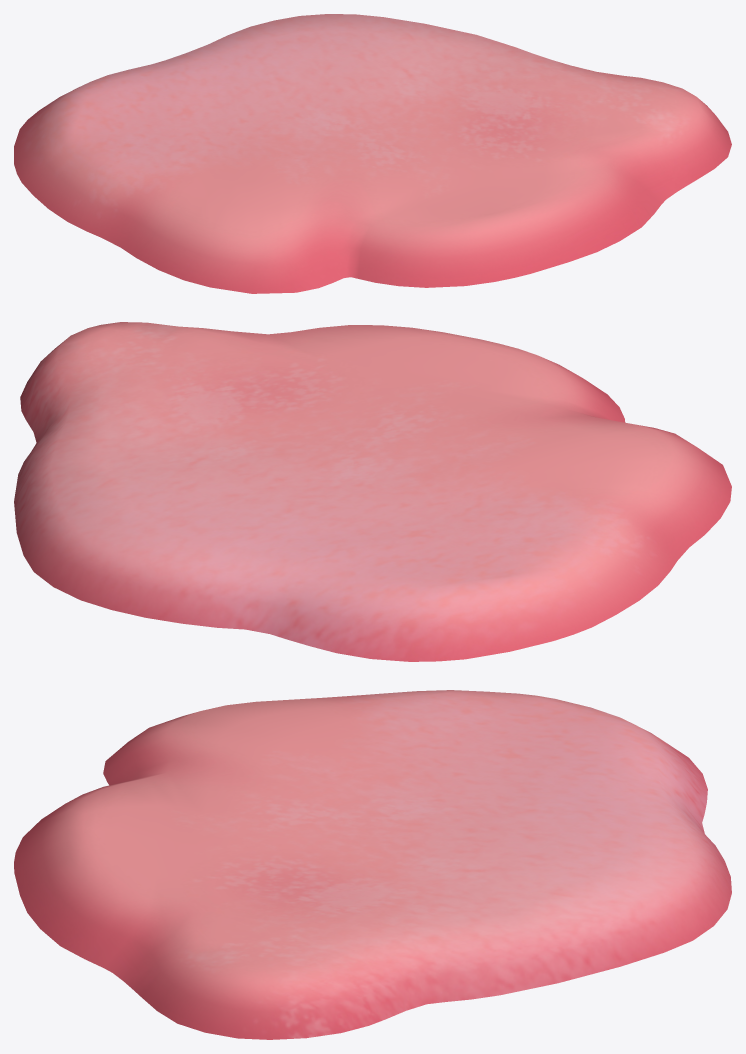
The model's file is 冰淇淋-道具-冰淇淋（大）-红-原味.FBX.
3 renders of one model, top to bottom at view 1: azimuth 30°, elevation 25°; view 2: azimuth 150°, elevation 25°; view 3: azimuth 270°, elevation 25°, orthographic. The views are drawn at different scales.
Parts seen in each view (by area): view 1: 冰淇淋-道具-冰淇淋（大）-红-原味; view 2: 冰淇淋-道具-冰淇淋（大）-红-原味; view 3: 冰淇淋-道具-冰淇淋（大）-红-原味.
Boxes of the visible parts, bbox=[...] form: 冰淇淋-道具-冰淇淋（大）-红-原味: bbox=[14, 14, 731, 293]; 冰淇淋-道具-冰淇淋（大）-红-原味: bbox=[14, 322, 731, 661]; 冰淇淋-道具-冰淇淋（大）-红-原味: bbox=[14, 690, 731, 1039].
Size of the model in its own units: 211 by 14.04 by 191.
1 material, 1 textured.
